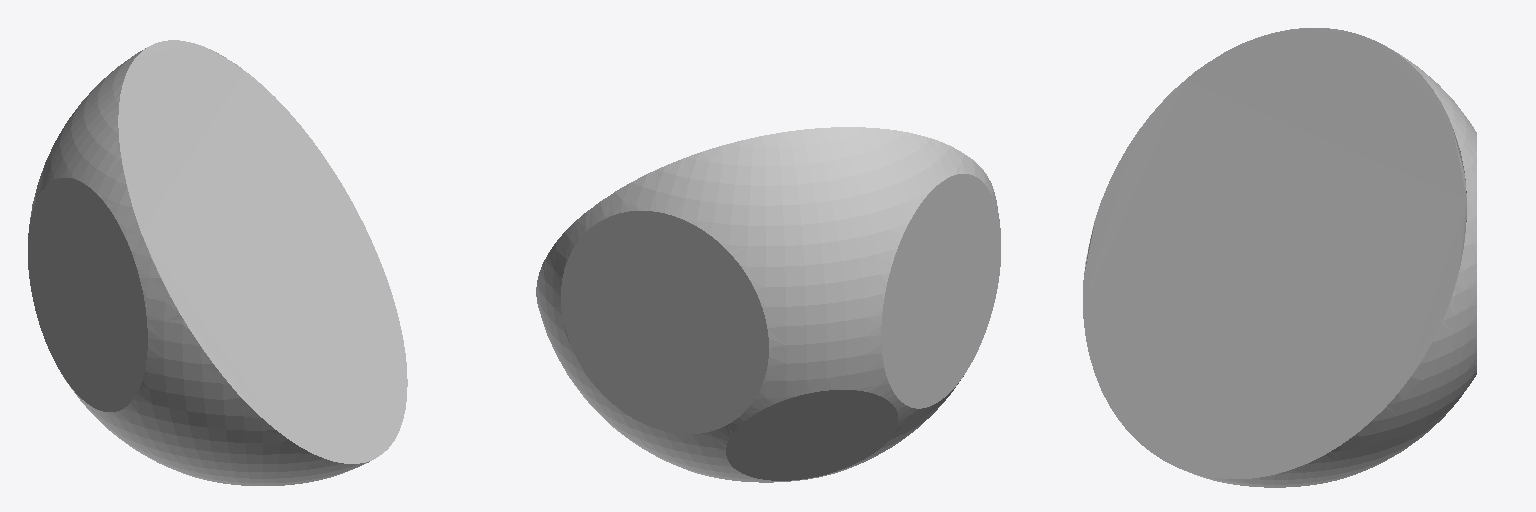
File: hemisphere_with_all_faces.obj
3 renders of one model, left to right at view 1: azimuth 30°, elevation 25°; view 2: azimuth 150°, elevation 25°; view 3: azimuth 270°, elevation 25°, orthographic.
Parts seen in each view (by area): view 1: <STL_BINARY>; view 2: <STL_BINARY>; view 3: <STL_BINARY>.
Part boxes in pixels (bbox=[...]): <STL_BINARY>: bbox=[28, 40, 407, 485]; <STL_BINARY>: bbox=[536, 127, 1000, 482]; <STL_BINARY>: bbox=[1083, 28, 1476, 487].
Bounding box in the file's own units: 0.9931 × 0.9931 × 0.9931.